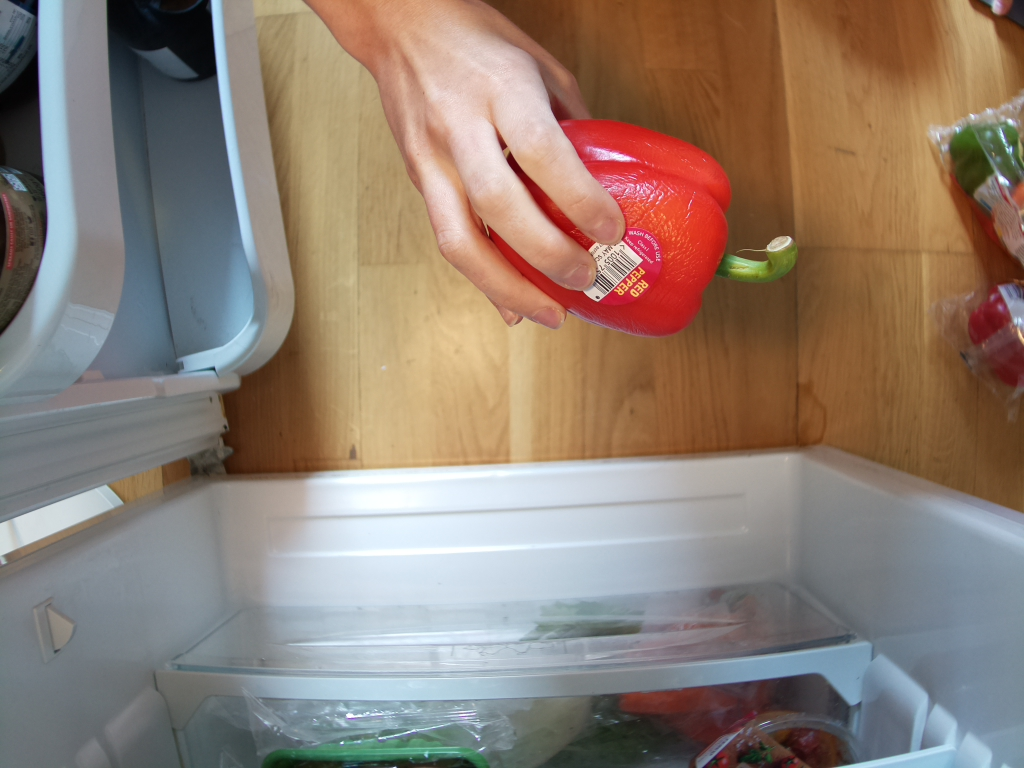pepper-bad: (464, 114, 801, 342)
